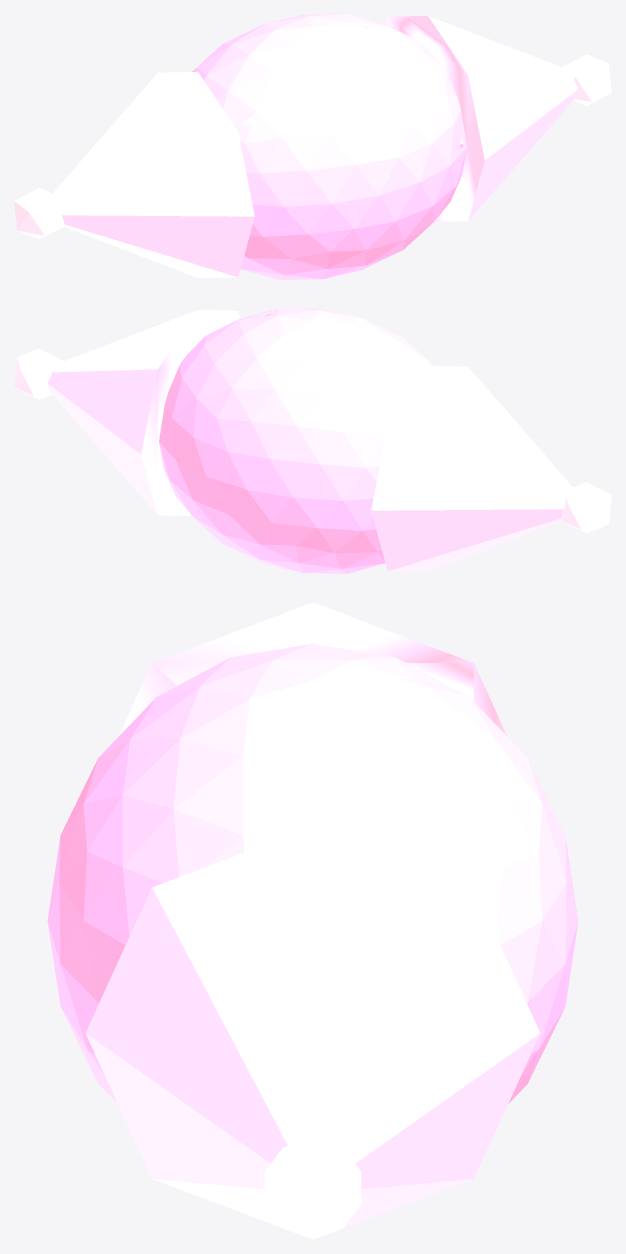
Rendered from halloween_candy.glb.
3 views of the same model, one above another, from view 1: azimuth 30°, elevation 25°; view 2: azimuth 150°, elevation 25°; view 3: azimuth 270°, elevation 25° (orthographic). The views are drawn at different scales.
Parts seen in each view (by area): view 1: Candy; view 2: Candy; view 3: Candy.
Boxes of the visible parts, x1,y1,x2,y2 form: Candy: (14, 14, 611, 279); Candy: (14, 308, 611, 573); Candy: (47, 602, 578, 1239).
Size of the model in its own units: 2.16 by 0.84 by 0.84.
